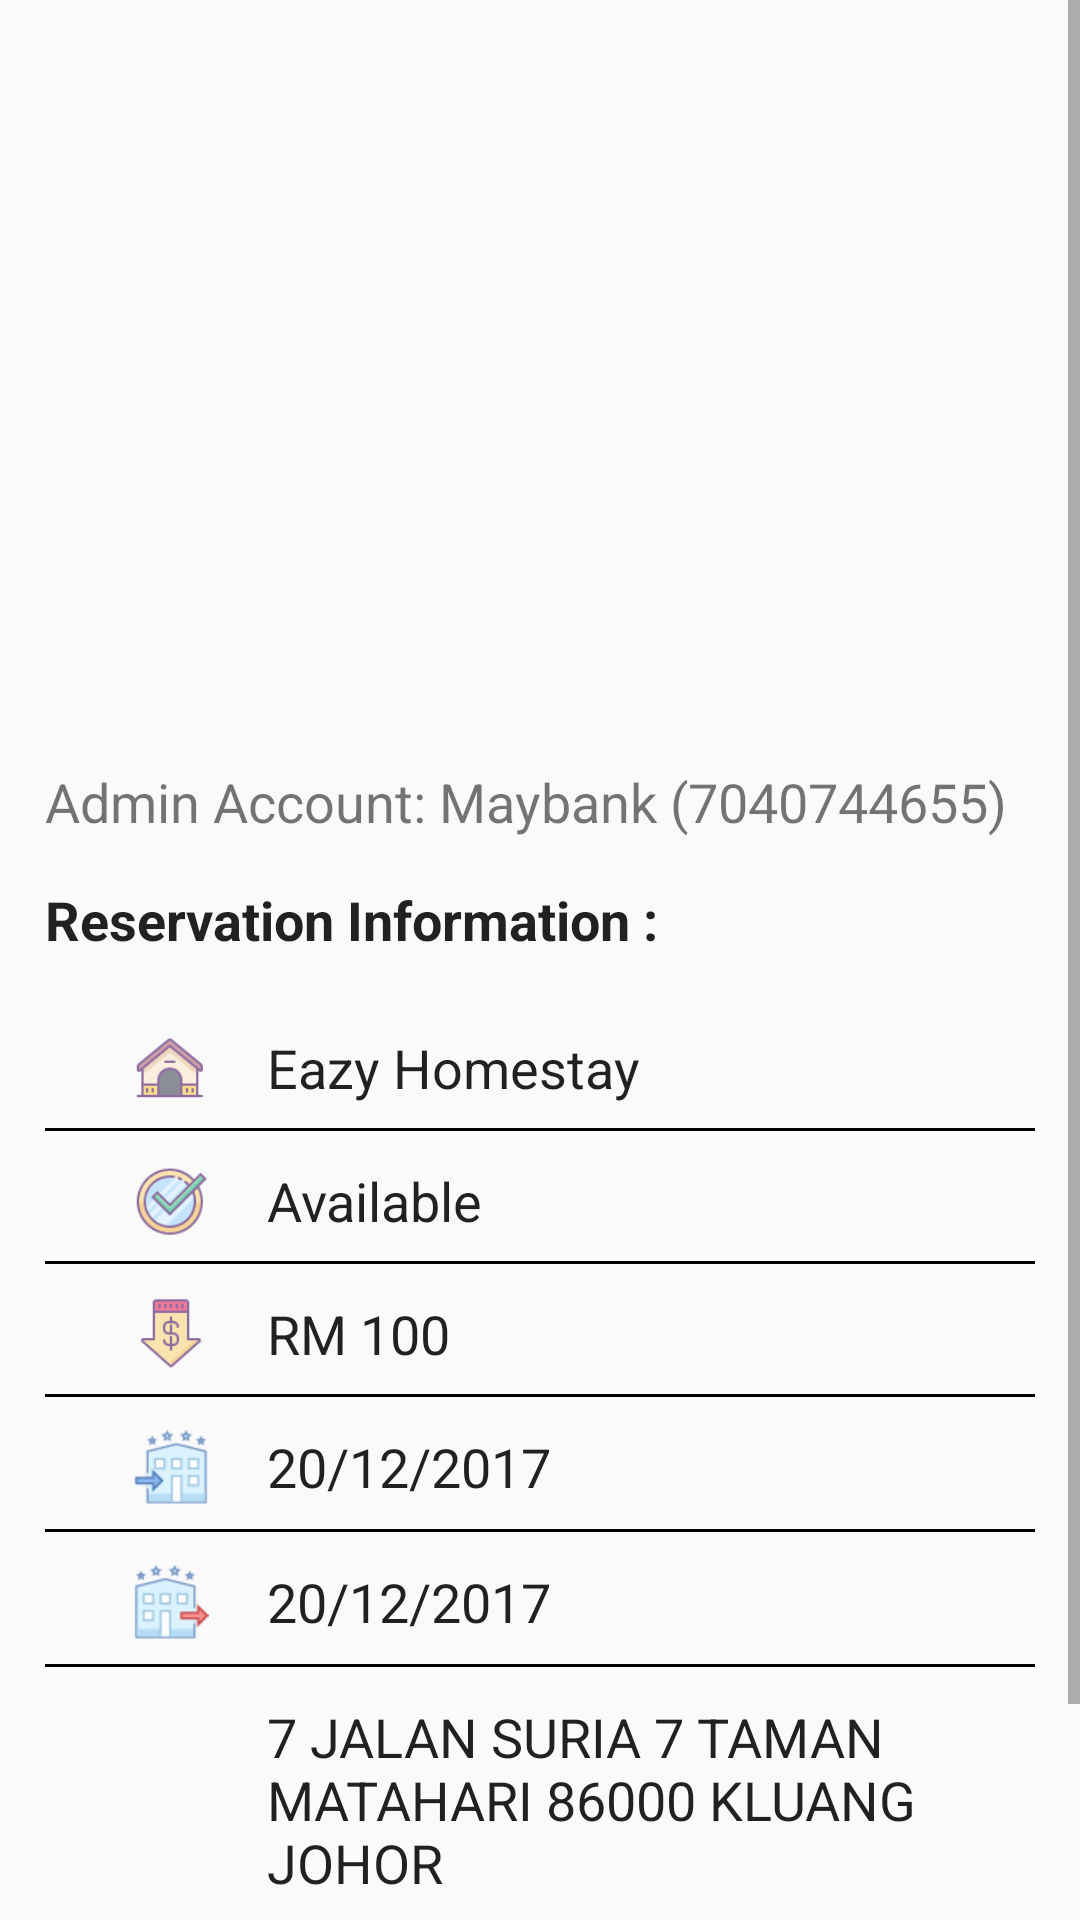

Named icons in this screenshot (1080 × 1920) and their centers, [x,y]:
check: [171,1201]
checkin: [171,1467]
checkout: [172,1602]
price: [171,1333]
